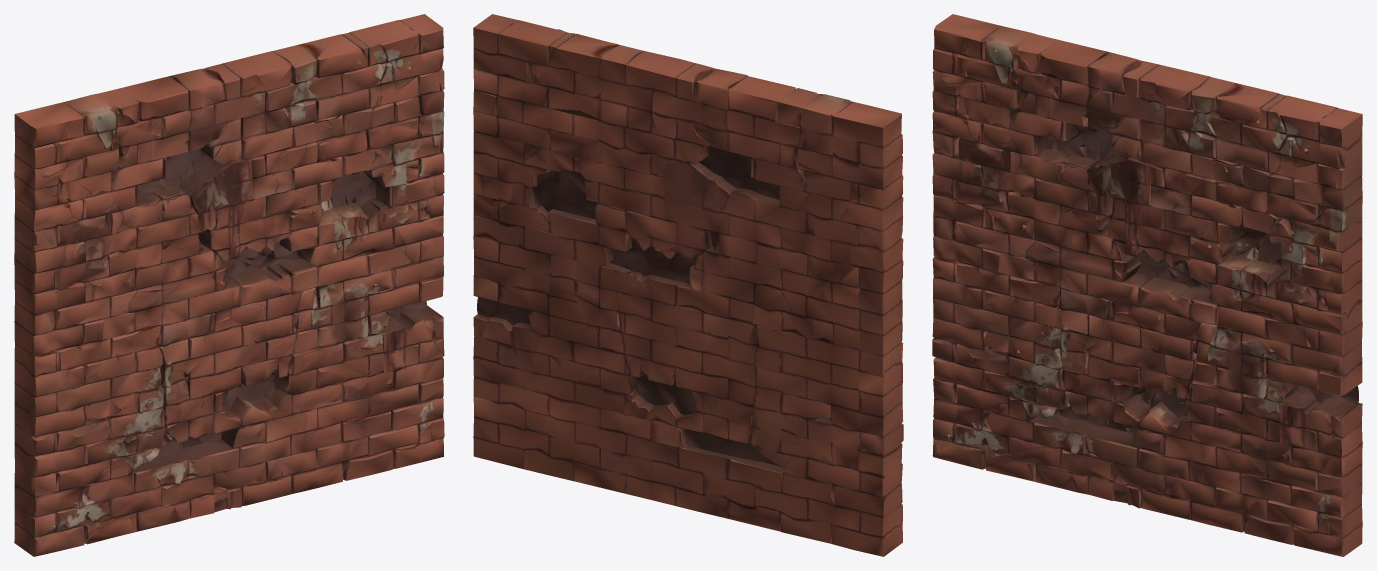
File: finish_brick_damaged_idle.glb
3 views of the same model, side by side, from view 1: azimuth 30°, elevation 25°; view 2: azimuth 150°, elevation 25°; view 3: azimuth 330°, elevation 25° (orthographic).
Visible parts, largest first — view 1: tripo_node_119a0f9e-47cb-4f68-8980-badba0a30917; view 2: tripo_node_119a0f9e-47cb-4f68-8980-badba0a30917; view 3: tripo_node_119a0f9e-47cb-4f68-8980-badba0a30917.
Boxes of the visible parts, <box> form: tripo_node_119a0f9e-47cb-4f68-8980-badba0a30917: <box>14,14,444,556</box>; tripo_node_119a0f9e-47cb-4f68-8980-badba0a30917: <box>473,14,903,556</box>; tripo_node_119a0f9e-47cb-4f68-8980-badba0a30917: <box>932,14,1362,556</box>.
Size of the model in its own units: 0.9994 by 0.9985 by 0.1009.
1 material, 1 textured.
